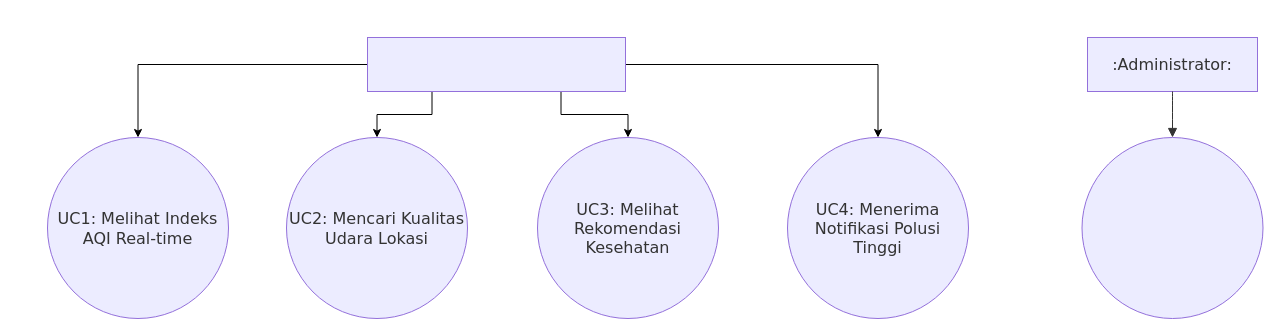
The diagram is 1280 pixels wide and 336 high, and some of its shapes have lost their labels. Each missing label, with the box of its shape:
:Pengguna Umum / Rentan:: (366, 36, 626, 92)
UC5: Mengelola Konfigurasi & API: (1081, 136, 1263, 318)
